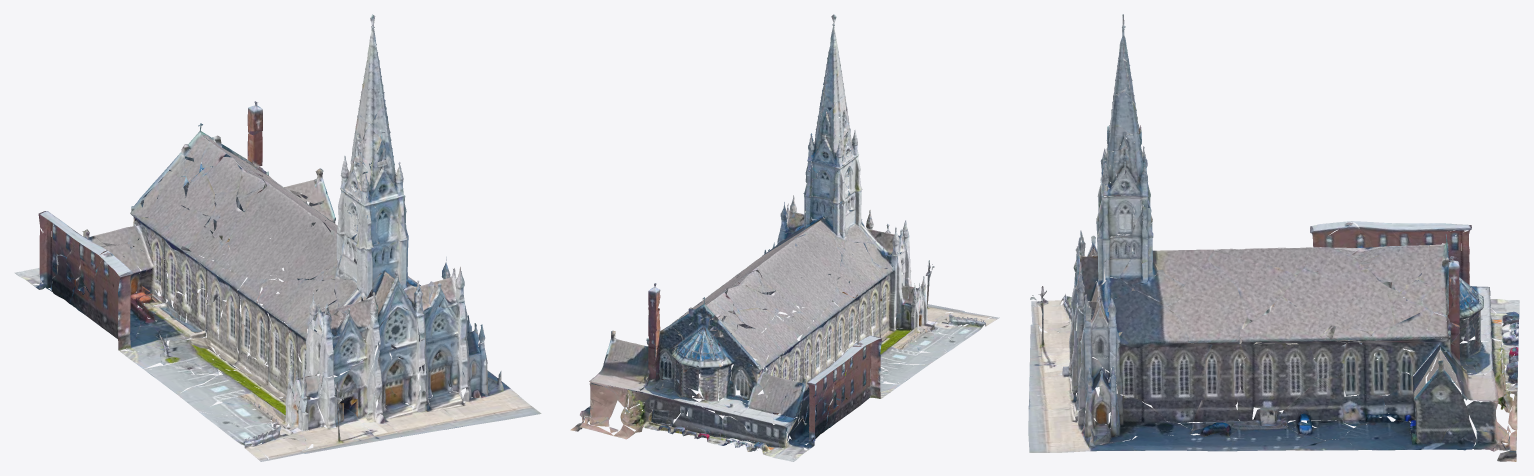
File: st_marys_basilica.glb
3 renders of one model, left to right at view 1: azimuth 30°, elevation 25°; view 2: azimuth 150°, elevation 25°; view 3: azimuth 270°, elevation 25°, orthographic. The views are drawn at different scales.
Parts seen in each view (by area): view 1: Object_7, Object_5, Object_13, Object_4, Object_2, Object_14, Object_6, Object_15, Object_17, Object_19, Object_24, Object_16 (+10 smaller); view 2: Object_5, Object_19, Object_7, Object_2, Object_16, Object_23, Object_22, Object_17, Object_4, Object_6, Object_20, Object_10 (+11 smaller); view 3: Object_8, Object_3, Object_18, Object_2, Object_14, Object_9, Object_7, Object_19, Object_26, Object_17, Object_13, Object_4 (+8 smaller).
Part boxes in pixels (box(x1,y1,x2,y2)): Object_7: box(51, 171, 315, 354); Object_5: box(226, 184, 335, 399); Object_13: box(302, 305, 462, 453); Object_4: box(257, 256, 485, 394); Object_2: box(14, 211, 272, 461); Object_14: box(138, 288, 541, 430); Object_6: box(134, 216, 365, 412); Object_15: box(50, 247, 284, 397); Object_17: box(180, 125, 335, 428); Object_19: box(40, 101, 337, 429); Object_24: box(352, 171, 408, 300); Object_16: box(51, 134, 276, 396); Object_5: box(748, 220, 911, 352); Object_19: box(589, 270, 957, 401); Object_7: box(673, 290, 870, 422); Object_2: box(570, 239, 999, 461); Object_16: box(681, 301, 900, 441); Object_23: box(600, 369, 823, 452); Object_22: box(580, 55, 847, 442); Object_17: box(669, 289, 946, 368); Object_4: box(764, 195, 892, 342); Object_6: box(764, 229, 932, 372); Object_20: box(602, 51, 845, 423); Object_10: box(810, 115, 854, 235); Object_8: box(1237, 306, 1475, 450); Object_3: box(1071, 269, 1244, 423); Object_18: box(1030, 247, 1450, 353); Object_2: box(1031, 221, 1519, 461); Object_14: box(1028, 272, 1382, 452); Object_9: box(1120, 133, 1411, 451); Object_7: box(1275, 221, 1465, 395); Object_19: box(1091, 234, 1497, 401); Object_26: box(1074, 246, 1214, 330); Object_17: box(1367, 236, 1483, 317); Object_13: box(1029, 281, 1109, 416); Object_4: box(1077, 261, 1197, 428).
Size of the model in its own units: 43.78 by 58.95 by 67.41.
1 material, 1 textured.
